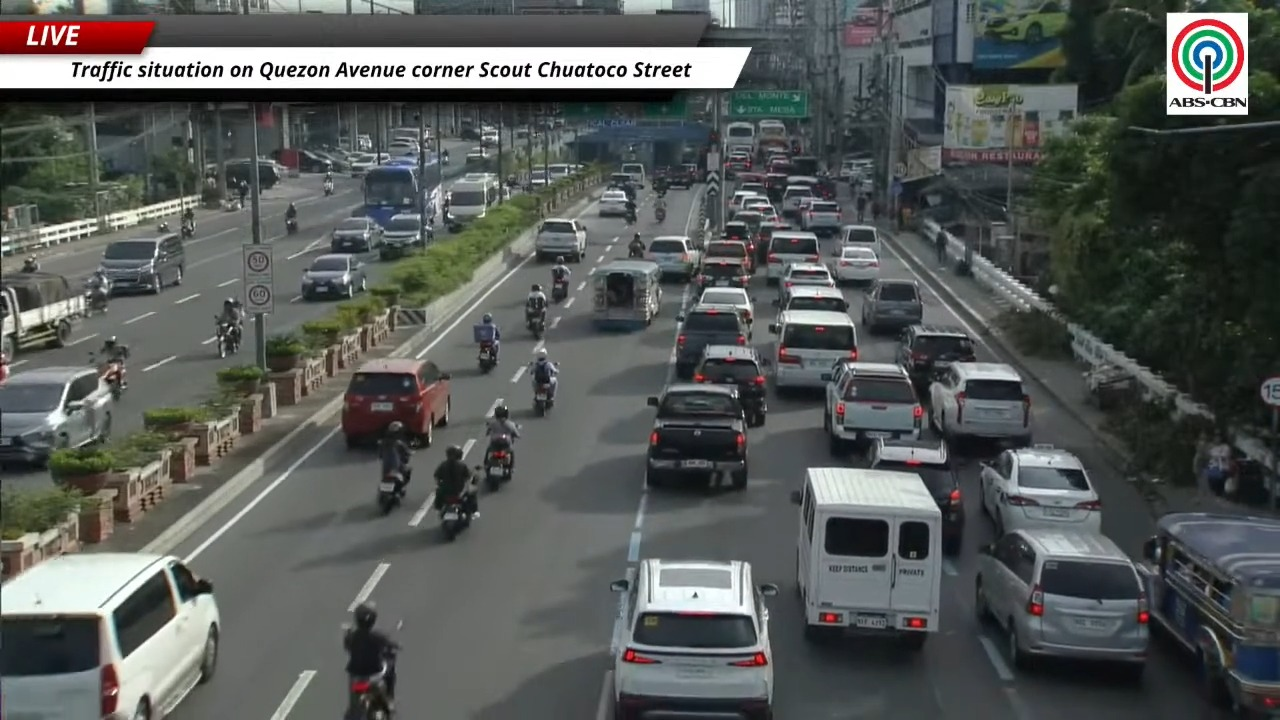bus: (360, 158, 441, 226), (724, 122, 756, 153), (758, 119, 787, 141)
car: (0, 552, 221, 719), (610, 558, 776, 719), (975, 529, 1149, 679), (0, 366, 114, 466), (868, 439, 965, 555), (646, 382, 747, 489), (980, 445, 1101, 533), (340, 358, 450, 447), (823, 359, 923, 455), (929, 362, 1032, 446), (693, 345, 766, 426), (675, 304, 751, 378), (99, 232, 185, 294), (896, 325, 976, 386), (982, 0, 1068, 45), (861, 279, 923, 332), (300, 253, 366, 300), (765, 231, 821, 284), (645, 235, 700, 281), (379, 214, 433, 259), (534, 218, 586, 262), (698, 287, 754, 324), (774, 285, 847, 313), (330, 217, 382, 253), (753, 219, 792, 266), (831, 246, 879, 283), (694, 257, 750, 288), (703, 239, 754, 272), (779, 262, 835, 292), (801, 199, 841, 236), (840, 224, 883, 256), (781, 178, 813, 218), (742, 196, 779, 222), (721, 220, 754, 249), (598, 189, 628, 217), (606, 172, 637, 199), (733, 209, 763, 236), (349, 152, 377, 177), (725, 152, 751, 178), (665, 166, 695, 188), (766, 171, 787, 202), (729, 191, 758, 212), (548, 163, 579, 181), (525, 169, 549, 191), (737, 178, 764, 196), (681, 163, 704, 182), (465, 147, 488, 163), (480, 130, 499, 147), (459, 126, 481, 140), (737, 172, 763, 183)
motorcycle: (347, 678, 390, 719), (90, 354, 123, 400), (483, 439, 512, 490), (439, 496, 471, 540), (377, 471, 402, 514), (214, 321, 238, 358), (85, 285, 108, 314), (533, 383, 553, 416), (477, 342, 497, 373), (527, 311, 545, 339), (551, 279, 567, 302), (180, 222, 194, 238), (285, 218, 298, 235), (629, 246, 644, 258), (323, 180, 334, 196), (655, 206, 665, 222), (625, 212, 637, 225), (157, 222, 168, 231)
truck: (0, 273, 85, 361)
